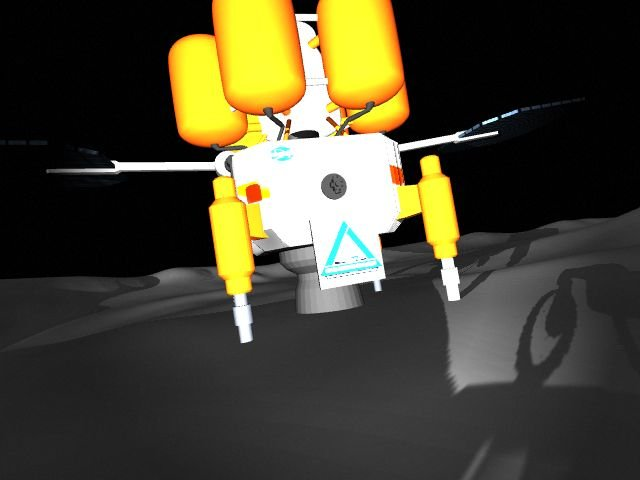basemarker: (322, 220, 383, 278)
